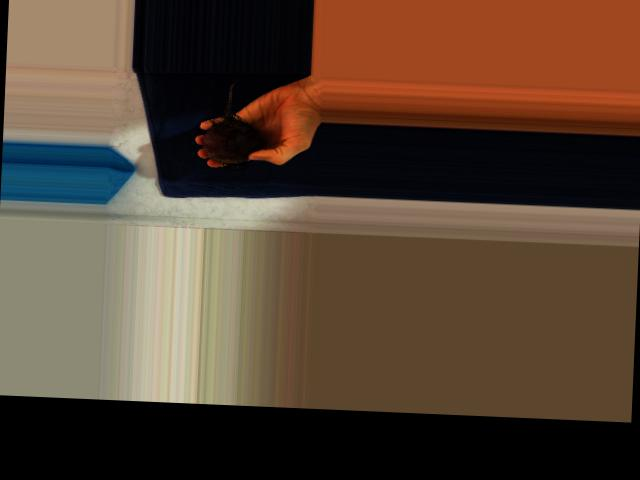beet: (200, 78, 263, 171)
